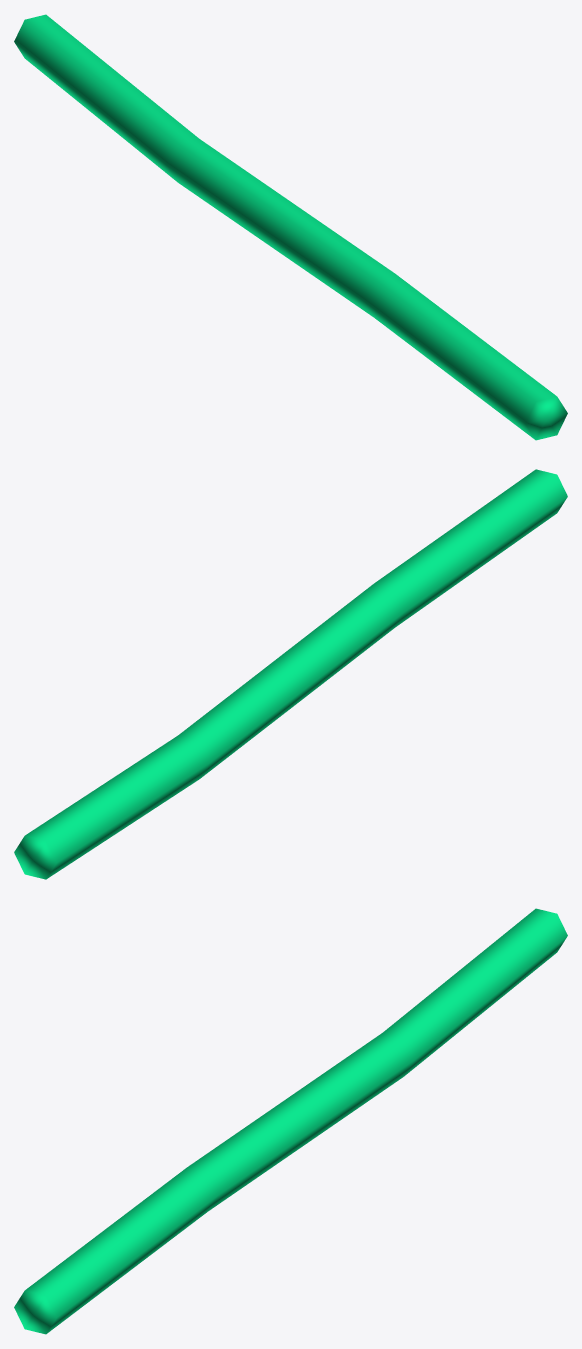
Rendered from Beam_06_Lod1.fbx.
3 renders of one model, top to bottom at view 1: azimuth 30°, elevation 25°; view 2: azimuth 150°, elevation 25°; view 3: azimuth 330°, elevation 25°, orthographic.
Visible parts, largest first — view 1: Beam_06_Lod1; view 2: Beam_06_Lod1; view 3: Beam_06_Lod1.
Part boxes in pixels (box(x1,y1,x2,y2)): Beam_06_Lod1: box(14, 14, 567, 440); Beam_06_Lod1: box(14, 469, 567, 879); Beam_06_Lod1: box(14, 908, 567, 1334).
Size of the model in its own units: 12.35 by 14.01 by 256.
